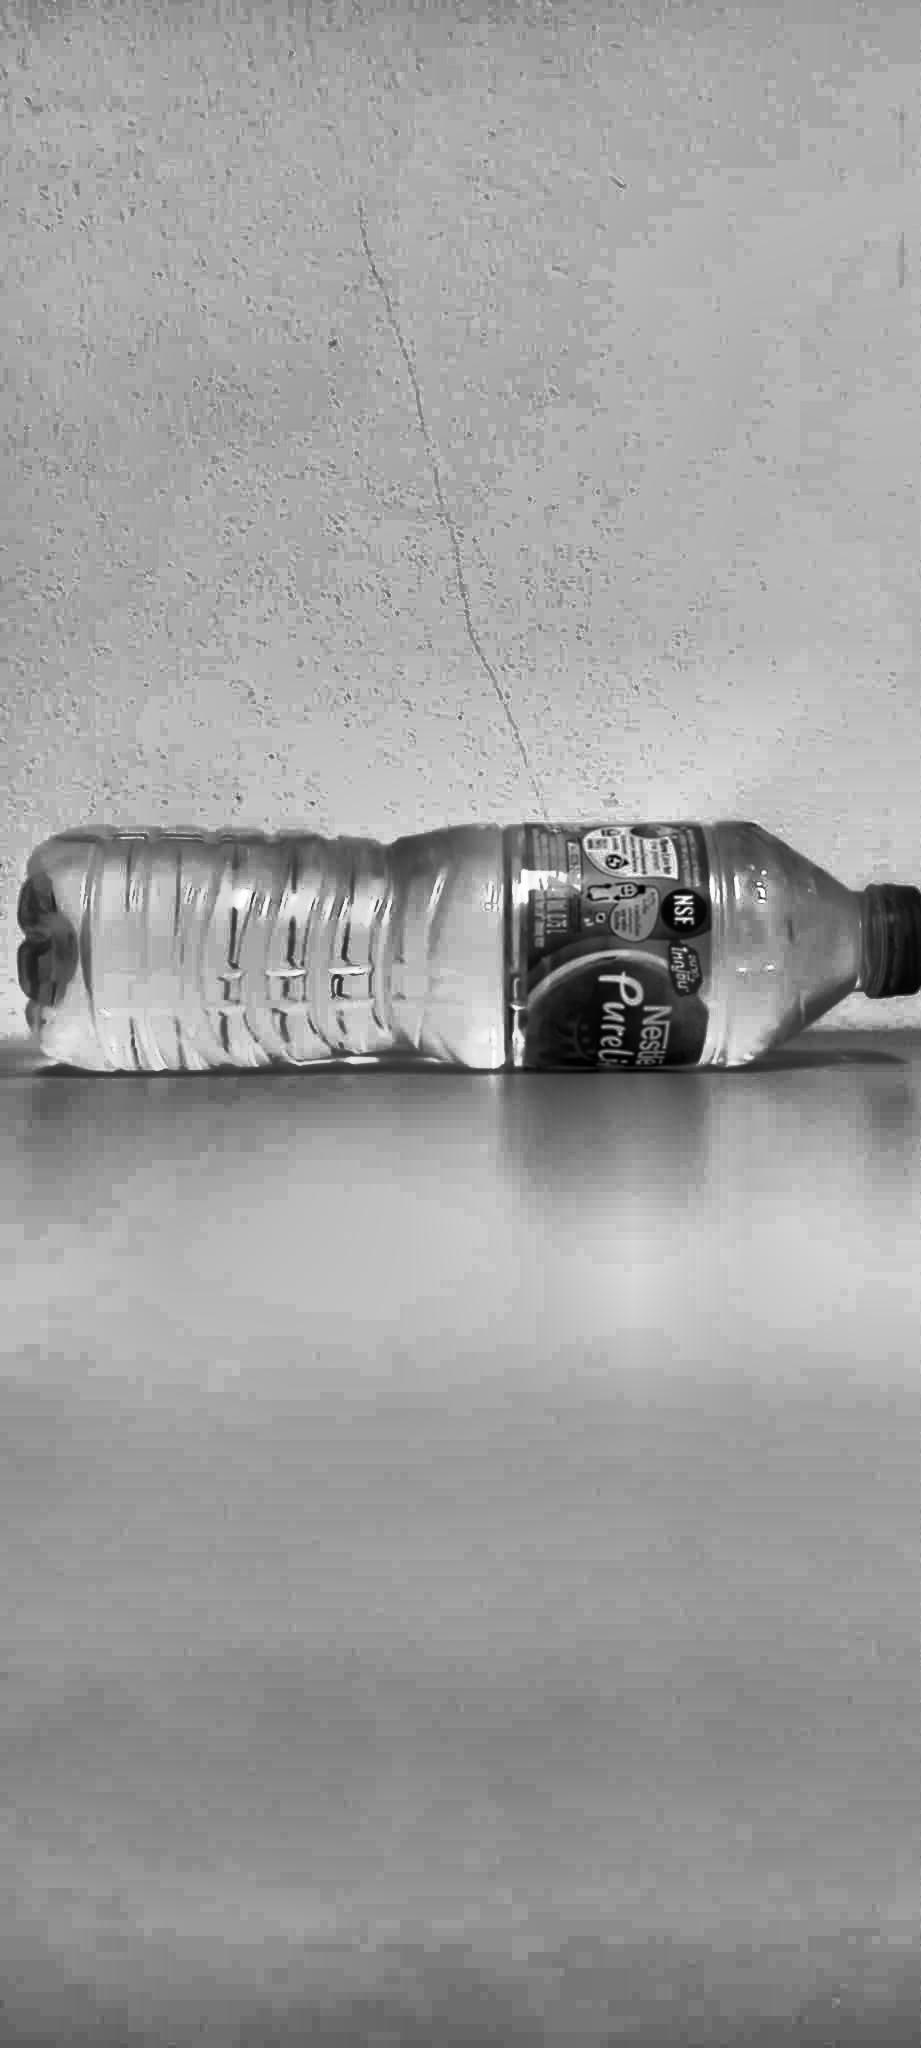waterbottle: (11, 226, 915, 1530)
